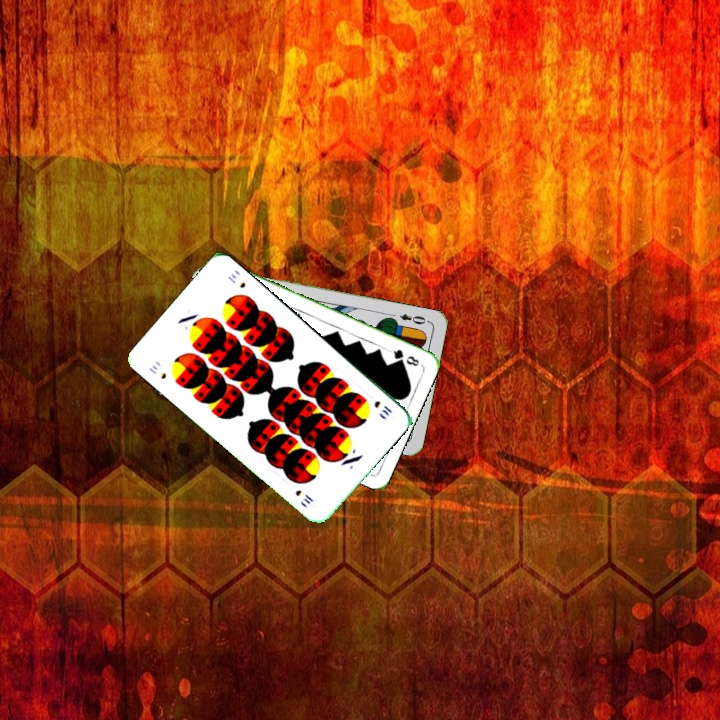EO: (396, 310, 432, 327)
G8: (385, 345, 422, 369)
S10: (370, 397, 395, 419), (144, 361, 169, 382)
